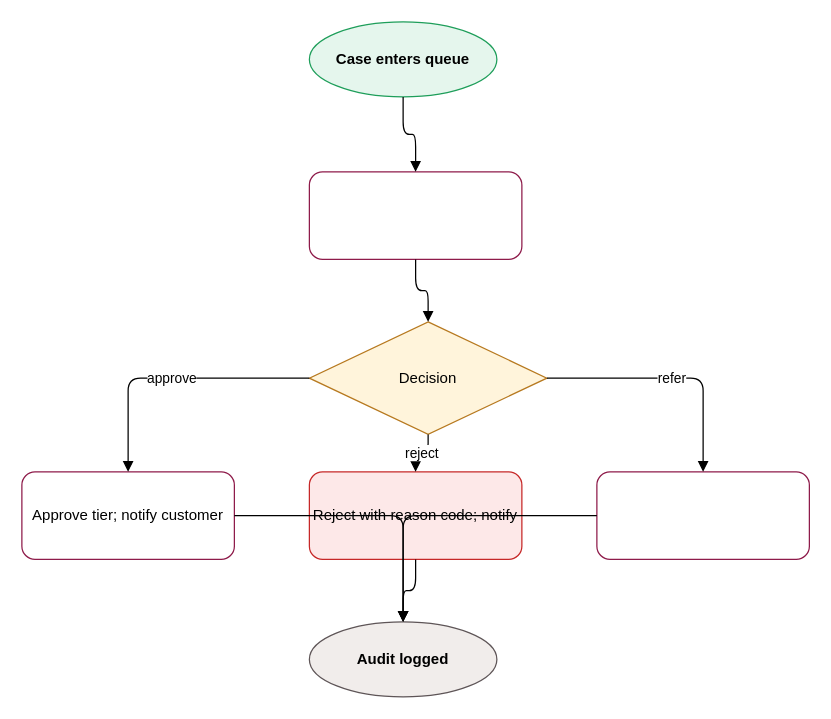
Image size: 831x719. Some labels were removed from this diagram. Each missing label, with the centre of its shape:
Analyst opens documents, liveness, sanctions result: [415,215]
Refer to compliance (sanctions hit or doubt): [702,515]
